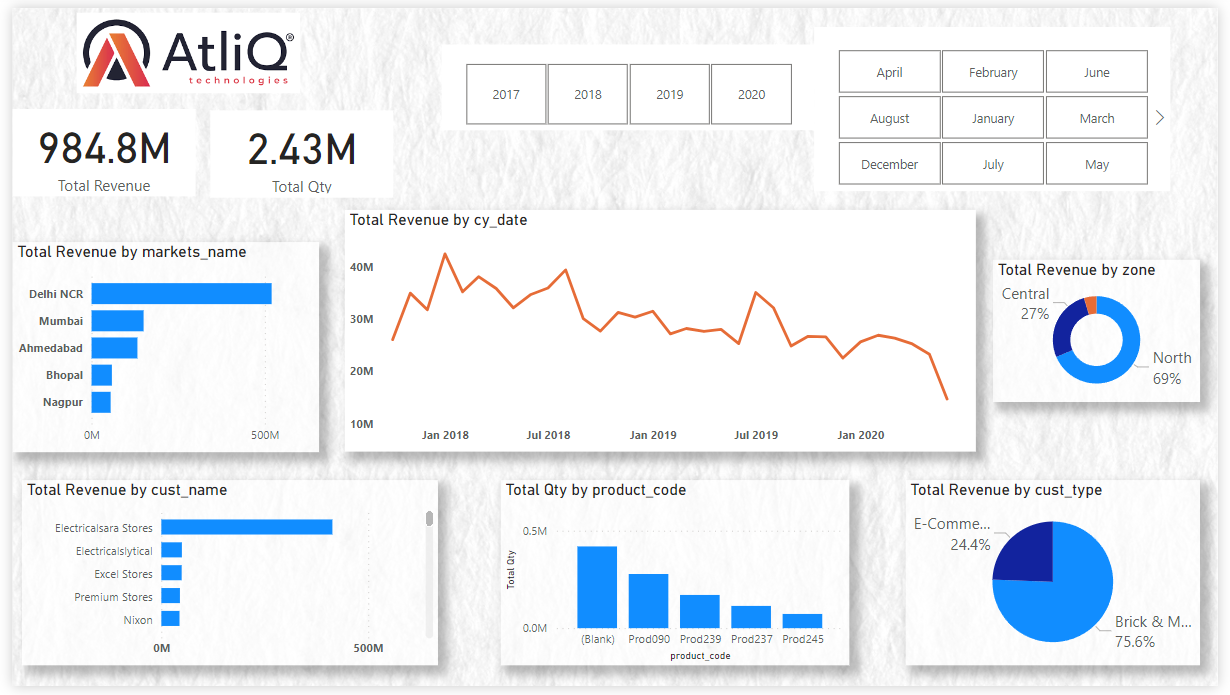

The dashboard page shown, as its layout file describes it:
{"tool":"powerbi","page":{"name":"Page 1","canvas":[1280,720],"ordinal":0},"visuals":[{"type":"card","fields":{"Values":["created_measures.Total Revenue"]},"box":[34.3,61.7,193.5,91.9],"z":0},{"type":"card","fields":{"Values":["created_measures.Total Qty"]},"box":[227.8,61.7,193.5,91.9],"z":1000},{"type":"barChart","fields":{"Category":["public markets.markets_name"],"Y":["created_measures.Total Revenue"]},"box":[0,214.1,387,223.7],"z":2000},{"type":"barChart","fields":{"Category":["public customers.cust_name"],"Y":["created_measures.Total Revenue"]},"box":[9.6,500.9,387,207.2],"z":3000},{"type":"slicer","fields":{"Values":["public date.years"]},"box":[412.5,0,398.8,95],"z":4000},{"type":"pieChart","fields":{"Category":["public customers.cust_type"],"Y":["created_measures.Total Revenue"]},"box":[826.2,540,312.5,158.8],"z":5000},{"type":"donutChart","fields":{"Category":["public markets.zone"],"Y":["created_measures.Total Revenue"]},"box":[172.5,348.8,248.8,152.5],"z":6000},{"type":"slicer","fields":{"Values":["public date.month_name"]},"box":[792.5,0,380,173.8],"z":8000},{"type":"lineChart","fields":{"Y":["created_measures.Total Revenue"],"Category":["public date.cy_date"]},"box":[435,181.2,673.8,256.2],"z":9000},{"type":"lineClusteredColumnComboChart","fields":{"Y":["created_measures.Total Qty"],"Category":["public products.product_code"]},"box":[435,540,353.8,150],"z":9001}]}

Visuals, with their boxes in screenshot pixels (x1, y1, x2, y2), scaled from the page's 1280x720 canvas onto the 1230x695 screenshot:
card - created_measures.Total Revenue: [x1=33, y1=60, x2=219, y2=148]
card - created_measures.Total Qty: [x1=219, y1=60, x2=405, y2=148]
barChart - public markets.markets_name x created_measures.Total Revenue: [x1=0, y1=207, x2=372, y2=423]
barChart - public customers.cust_name x created_measures.Total Revenue: [x1=9, y1=484, x2=381, y2=684]
slicer - public date.years: [x1=396, y1=0, x2=780, y2=92]
pieChart - public customers.cust_type x created_measures.Total Revenue: [x1=794, y1=521, x2=1094, y2=675]
donutChart - public markets.zone x created_measures.Total Revenue: [x1=166, y1=337, x2=405, y2=484]
slicer - public date.month_name: [x1=762, y1=0, x2=1127, y2=168]
lineChart - created_measures.Total Revenue x public date.cy_date: [x1=418, y1=175, x2=1065, y2=422]
lineClusteredColumnComboChart - created_measures.Total Qty x public products.product_code: [x1=418, y1=521, x2=758, y2=666]
